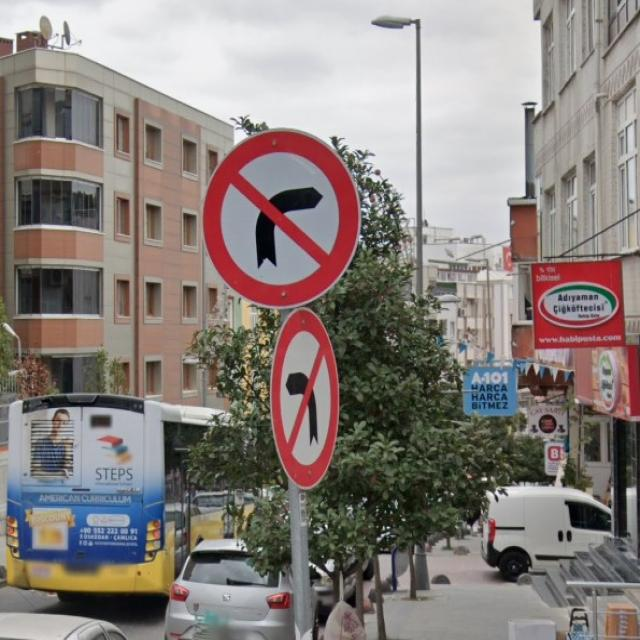sagadonulmez: (202, 127, 362, 306)
soladonulmez: (270, 308, 338, 489)
